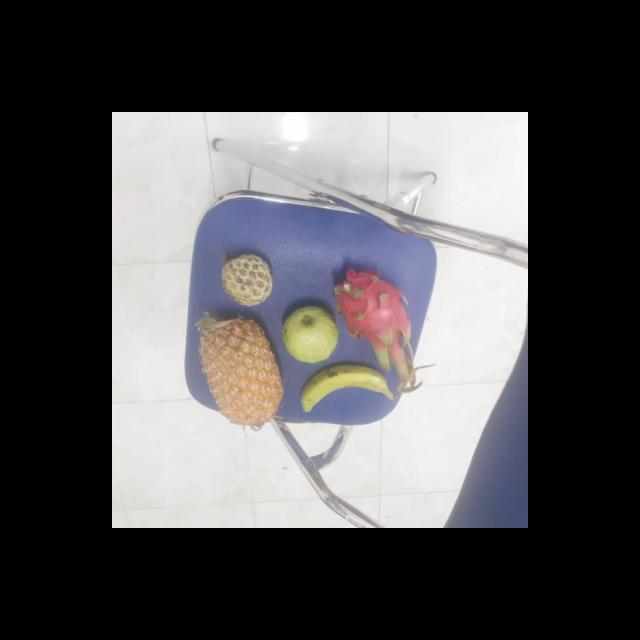Sakya fruit: (215, 254, 271, 306)
guava: (278, 304, 339, 363)
pineapple: (195, 310, 282, 424)
pitaya: (330, 270, 411, 367)
